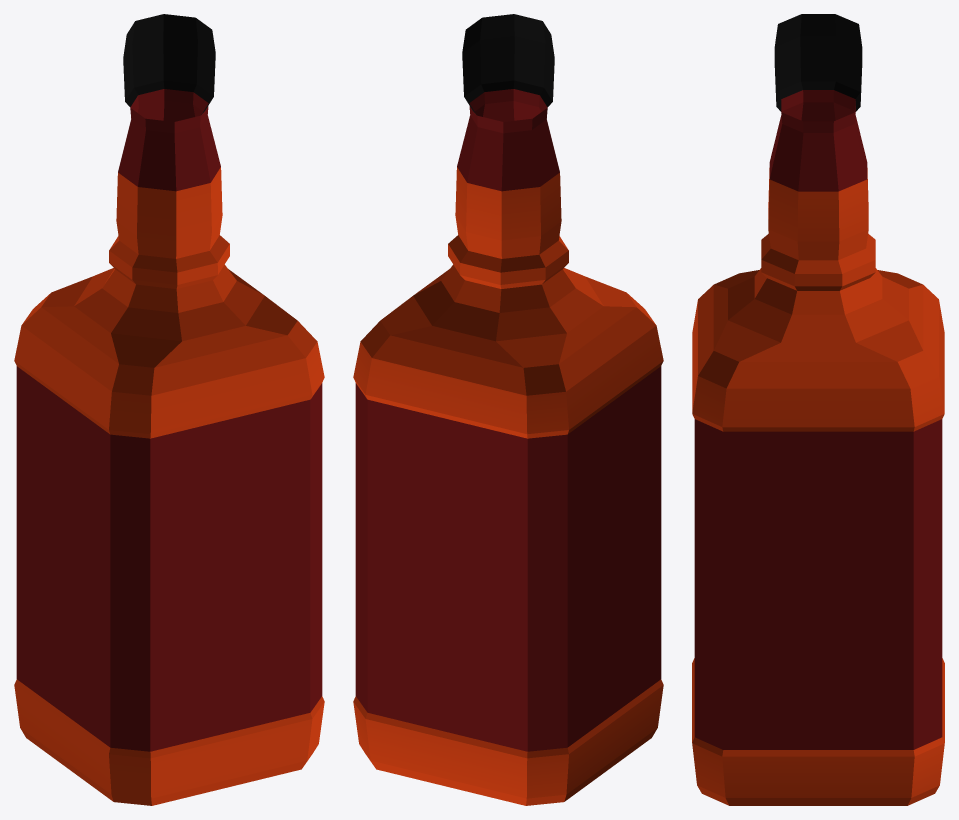
Rendered from Wine 8.fbx.
The picture shows the model from 3 angles, left to right: view 1: azimuth 30°, elevation 25°; view 2: azimuth 150°, elevation 25°; view 3: azimuth 270°, elevation 25°; orthographic projection.
Parts seen in each view (by area): view 1: Node 0; view 2: Node 0; view 3: Node 0.
Part boxes in pixels (bbox=[...]): Node 0: bbox=[14, 14, 324, 805]; Node 0: bbox=[353, 14, 663, 805]; Node 0: bbox=[692, 14, 944, 805].
Bounding box in the file's own units: 0.0877 × 0.2794 × 0.0879.
